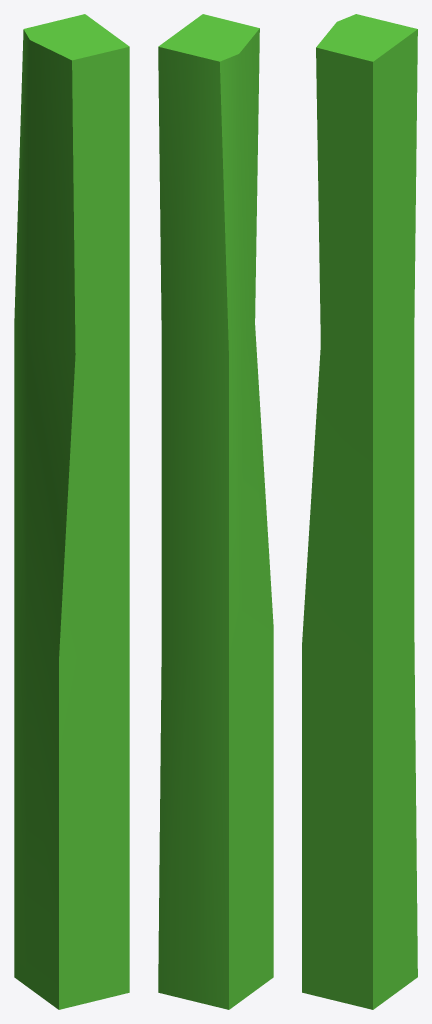
The model's file is Beam_Roof_03.fbx.
The picture shows the model from 3 angles, left to right: view 1: azimuth 30°, elevation 25°; view 2: azimuth 150°, elevation 25°; view 3: azimuth 330°, elevation 25°; orthographic projection.
Parts seen in each view (by area): view 1: Beam_Roof_03; view 2: Beam_Roof_03; view 3: Beam_Roof_03.
Boxes of the visible parts, x1,y1,x2,y2 form: Beam_Roof_03: (14,14,129,1009); Beam_Roof_03: (158,14,273,1009); Beam_Roof_03: (302,14,417,1009).
Bounding box in the file's own units: 15.33 × 195 × 17.75.
